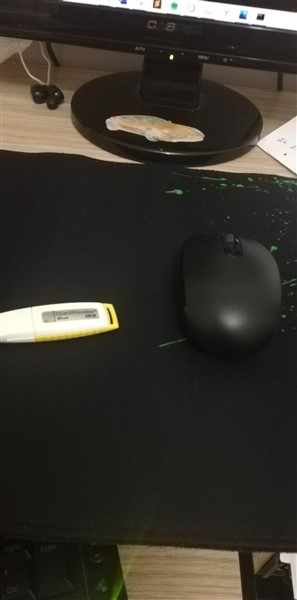flash disk: (1, 296, 116, 353)
mouse: (174, 222, 284, 365)
